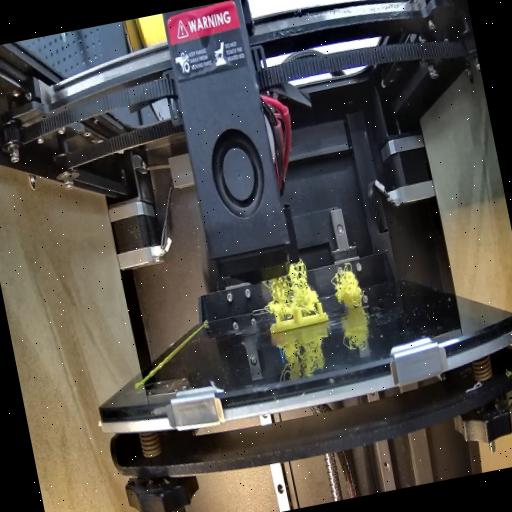spaghetti: (262, 262, 322, 320), (328, 262, 365, 313)
